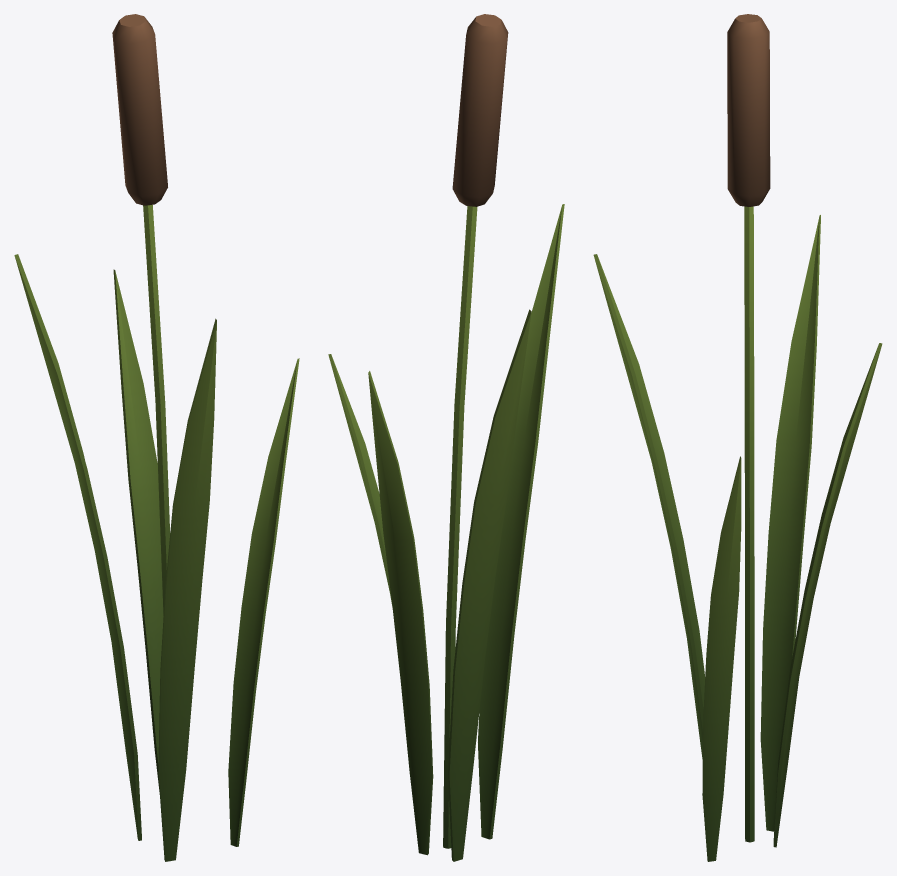
Rendered from PondPlant_06.fbx.
3 views of the same model, side by side, from view 1: azimuth 30°, elevation 25°; view 2: azimuth 150°, elevation 25°; view 3: azimuth 270°, elevation 25° (orthographic). The views are drawn at different scales.
Parts seen in each view (by area): view 1: PondPlant_06_LOD0; view 2: PondPlant_06_LOD0; view 3: PondPlant_06_LOD0.
Part boxes in pixels (box(x1,y1,x2,y2)): PondPlant_06_LOD0: box(14, 14, 299, 861); PondPlant_06_LOD0: box(328, 14, 564, 861); PondPlant_06_LOD0: box(593, 14, 882, 861).
Size of what is drawn, in the model's own units: 0.2102 by 0.686 by 0.2233.
